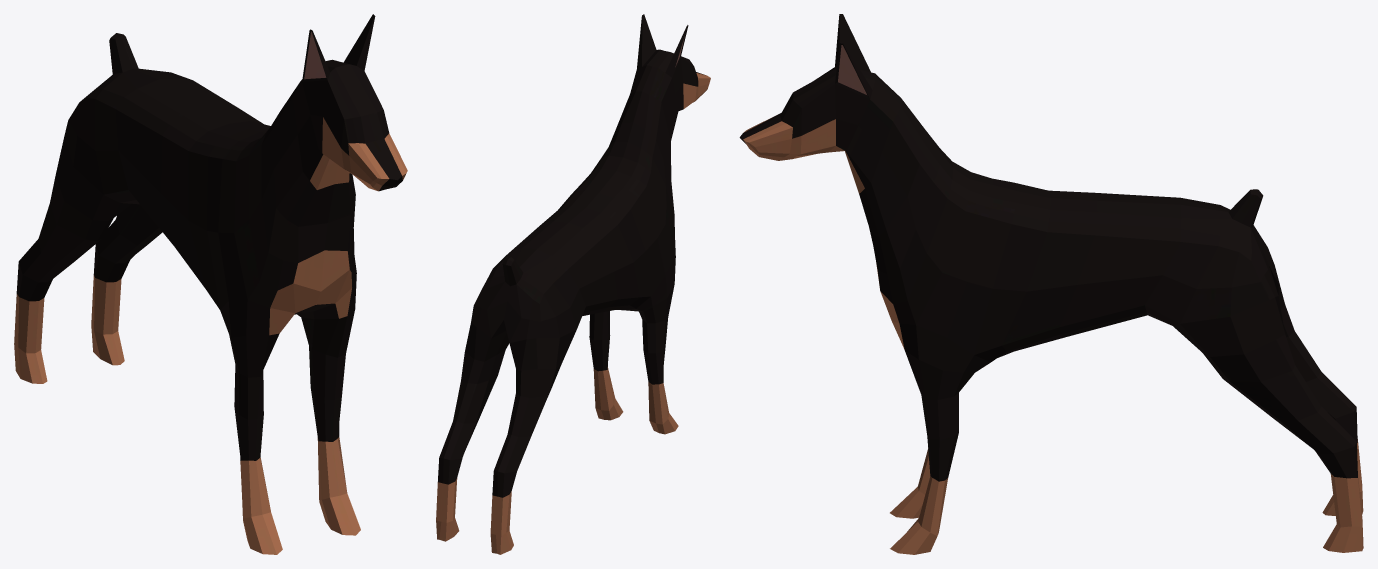
Rendered from prop_pa_dog.glb.
The picture shows the model from 3 angles, left to right: view 1: azimuth 30°, elevation 25°; view 2: azimuth 150°, elevation 25°; view 3: azimuth 270°, elevation 25°; orthographic projection. The views are drawn at different scales.
Parts seen in each view (by area): view 1: 12dogFinal; view 2: 12dogFinal; view 3: 12dogFinal.
Part boxes in pixels (x1,y1,x2,y2): 12dogFinal: (14,14,407,554); 12dogFinal: (436,14,710,554); 12dogFinal: (739,14,1363,554).
Size of the model in its own units: 0.3565 by 1.54 by 1.73.
1 material, 1 textured.
